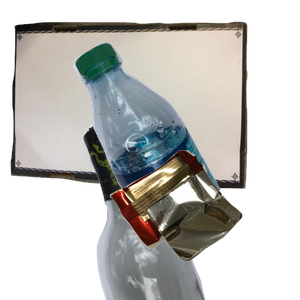cardboard: (10, 19, 250, 199)
glass: (81, 120, 300, 300)
plastic: (71, 39, 300, 219)
trash: (107, 148, 300, 300)
